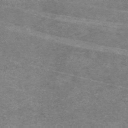finishing roll printing: (5, 25, 128, 56), (30, 63, 128, 90), (20, 9, 122, 28)
